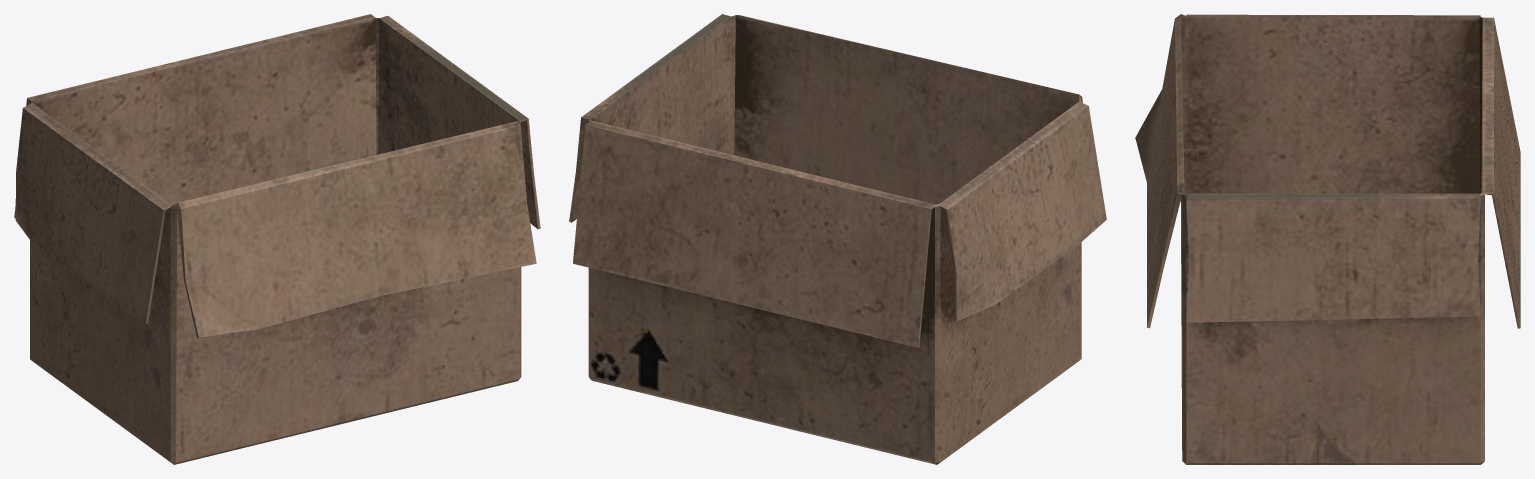
File: SM_Cardboard_Box06.glb
The picture shows the model from 3 angles, left to right: view 1: azimuth 30°, elevation 25°; view 2: azimuth 150°, elevation 25°; view 3: azimuth 270°, elevation 25°; orthographic projection. The views are drawn at different scales.
Parts seen in each view (by area): view 1: SM_Cardboard_Box06; view 2: SM_Cardboard_Box06; view 3: SM_Cardboard_Box06.
Part boxes in pixels (left/top/right/bottom): SM_Cardboard_Box06: left=14, top=14, right=540, bottom=464; SM_Cardboard_Box06: left=569, top=14, right=1106, bottom=464; SM_Cardboard_Box06: left=1135, top=14, right=1520, bottom=464.
Bounding box in the file's own units: 0.797 × 0.5033 × 0.6365.
Materials: 1 (1 with a texture image).
